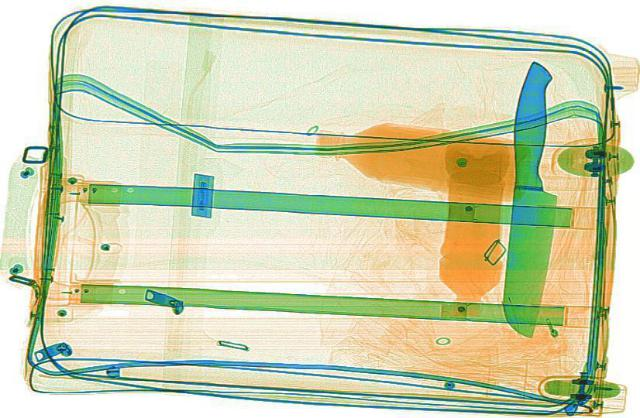Knife: (489, 57, 571, 337)
